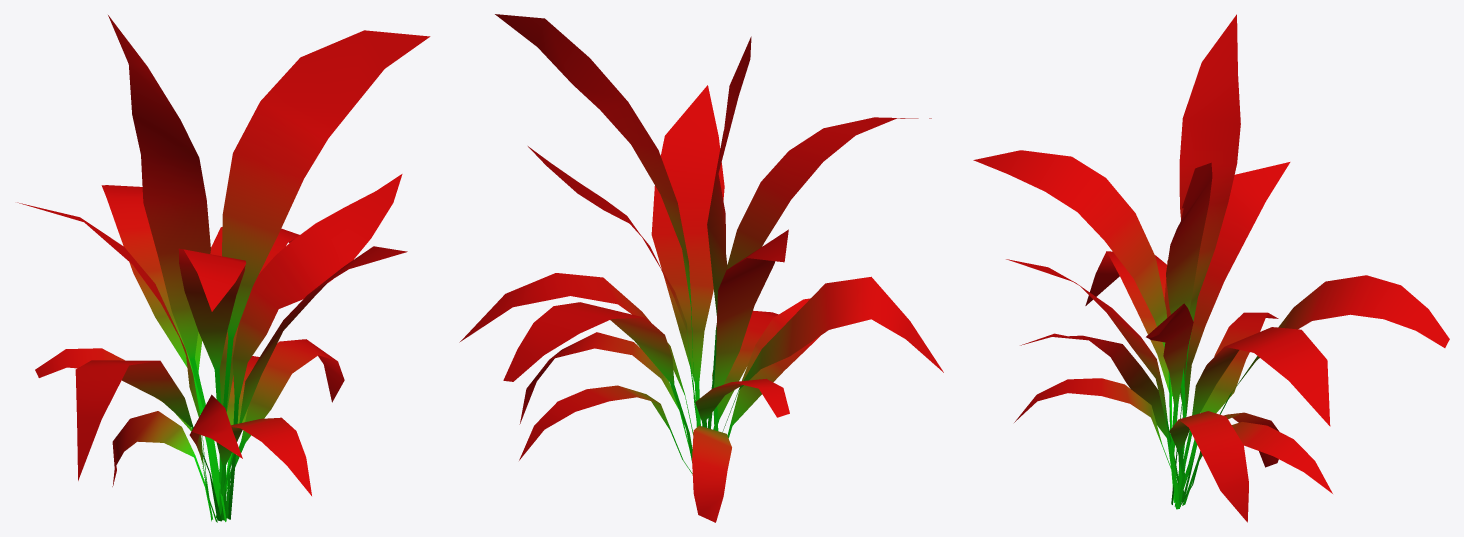
Rendered from Cast - Iron Plant_LOD2_Var3_shdmr.fbx.
3 views of the same model, side by side, from view 1: azimuth 30°, elevation 25°; view 2: azimuth 150°, elevation 25°; view 3: azimuth 270°, elevation 25° (orthographic). The views are drawn at different scales.
Parts seen in each view (by area): view 1: _0929_Var3_LOD2; view 2: _0929_Var3_LOD2; view 3: _0929_Var3_LOD2.
Part boxes in pixels (bbox=[...]): _0929_Var3_LOD2: bbox=[17, 15, 430, 522]; _0929_Var3_LOD2: bbox=[459, 14, 943, 522]; _0929_Var3_LOD2: bbox=[973, 14, 1449, 522].
Bounding box in the file's own units: 73.33 × 86.91 × 82.37.
